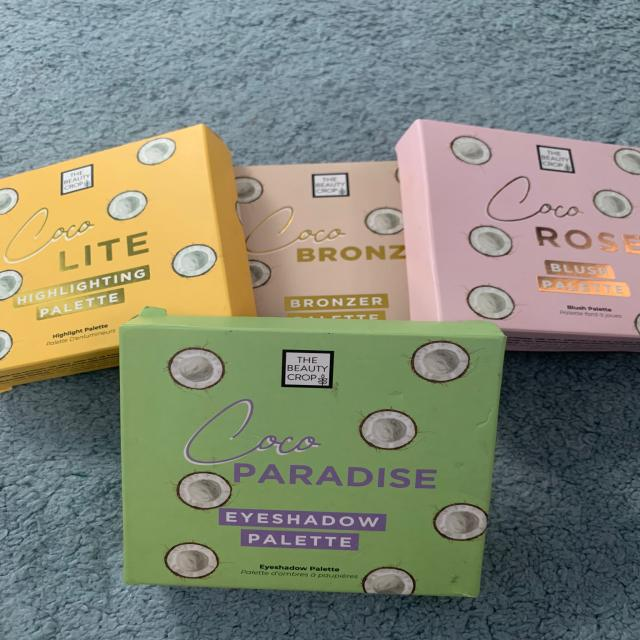makeup: (92, 297, 538, 604), (0, 124, 264, 371), (384, 110, 640, 349), (217, 150, 434, 342)
